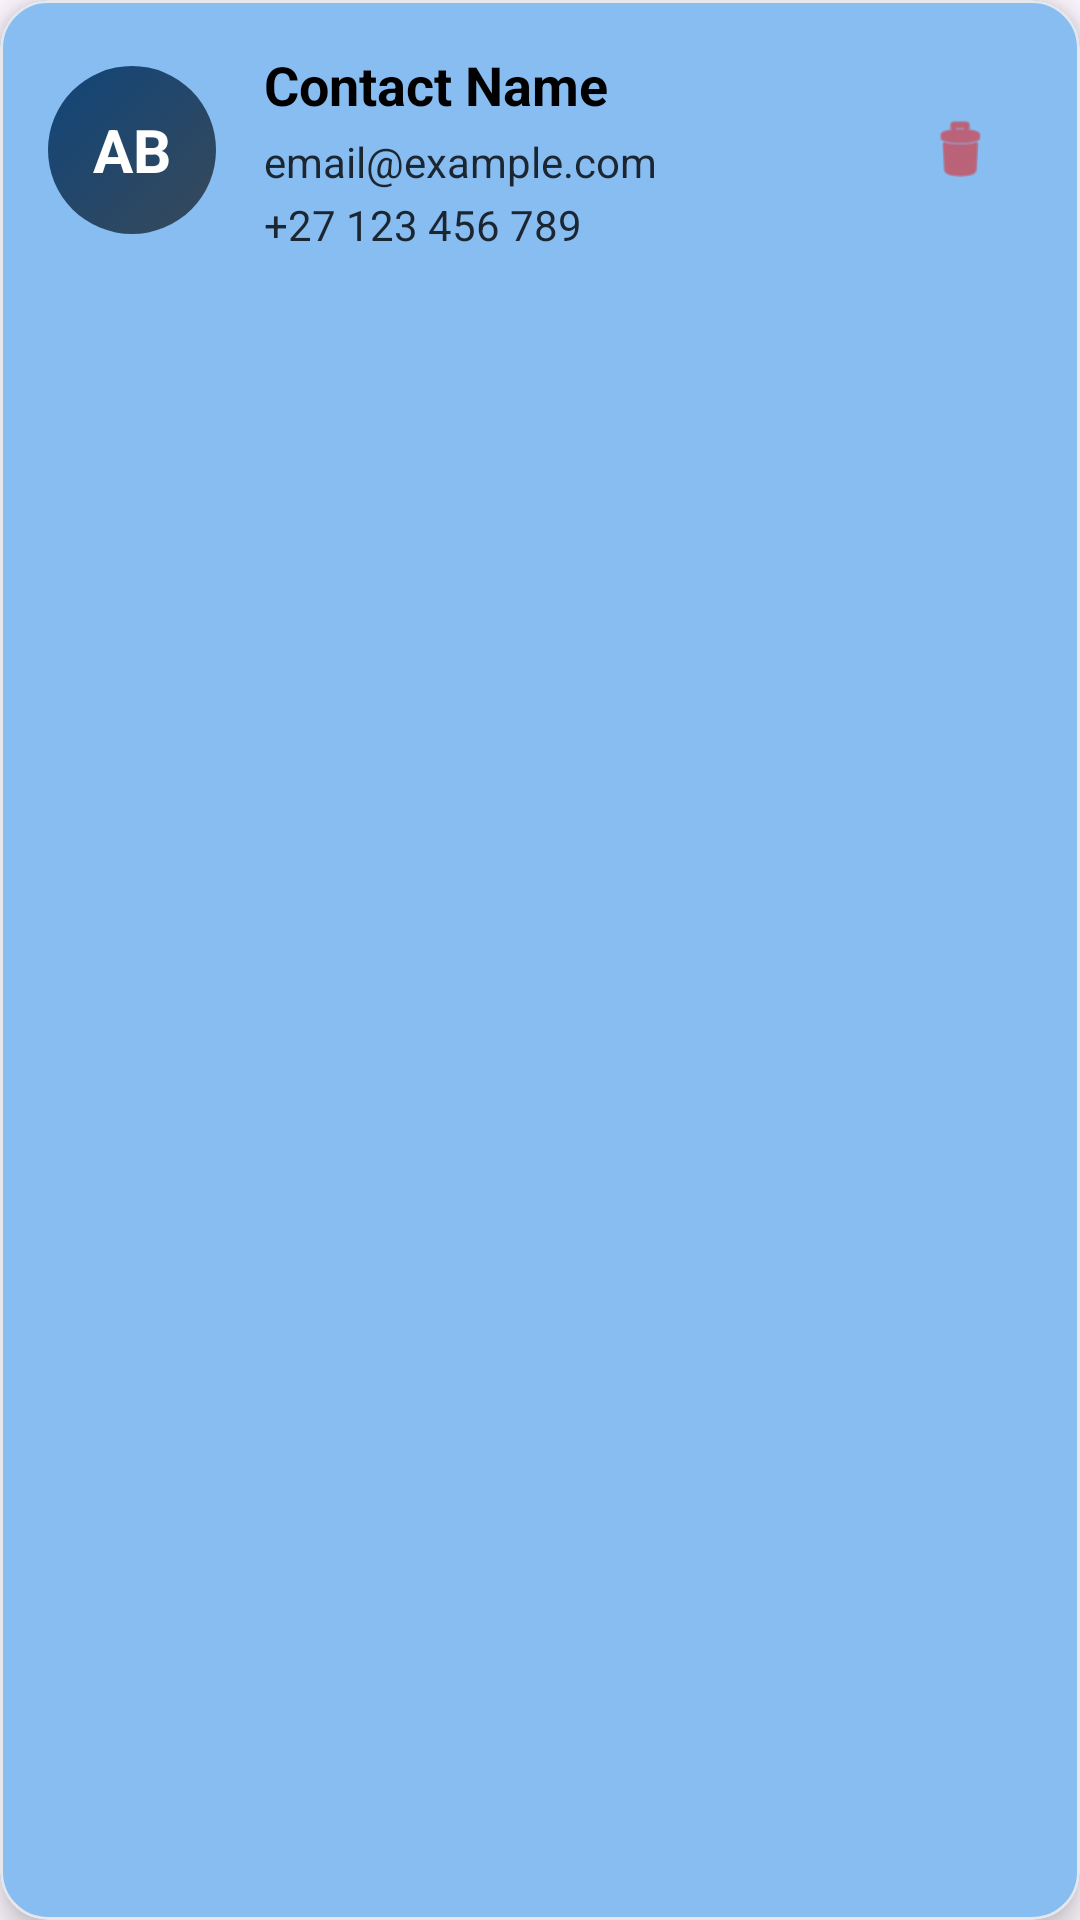

Locate icon controls on the screen. Image size 1080w x 1920h, boxes as (x1, y1, x2, y2).
Remove contact: (940, 121, 981, 177)
